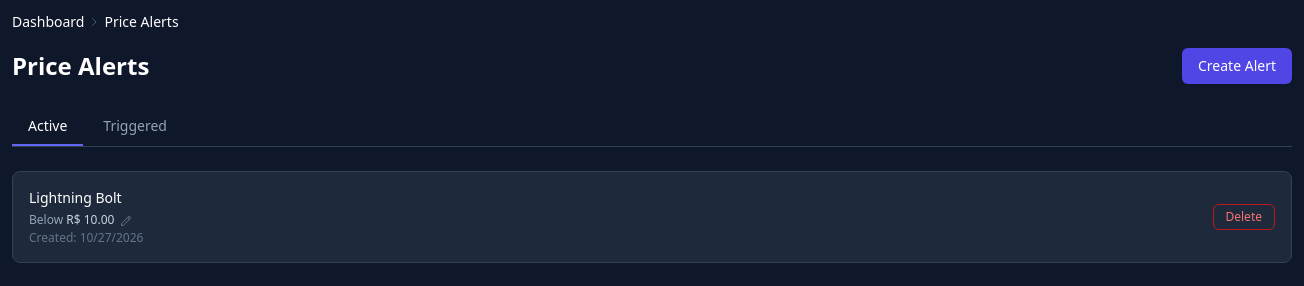
Test: AlertsPage › clicking pencil icon enters edit mode
Click the button with test id "inline-edit-button".
click(126, 220)  # box x1=120 y1=212 x2=132 y2=228
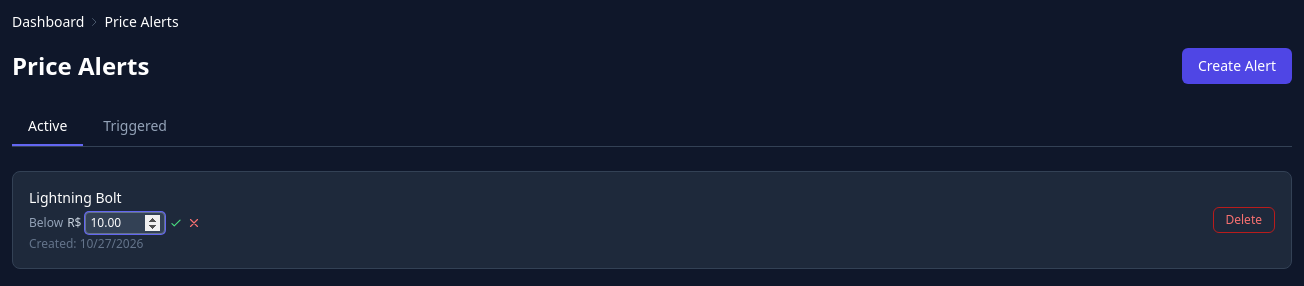
Now the number field with test id "inline-edit-input" is shown, box x1=86 y1=212 x2=166 y2=234
